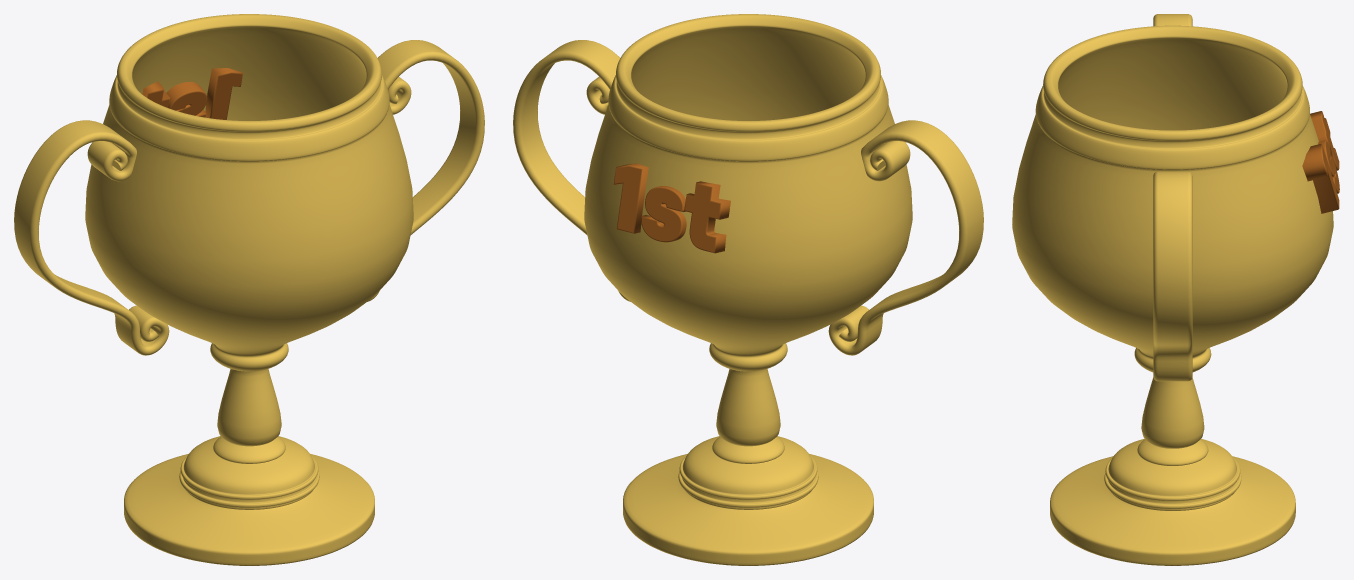
The model's file is kubok.fbx.
The picture shows the model from 3 angles, left to right: view 1: azimuth 30°, elevation 25°; view 2: azimuth 150°, elevation 25°; view 3: azimuth 270°, elevation 25°; orthographic projection. The views are drawn at different scales.
Parts seen in each view (by area): view 1: Cup_body; view 2: Cup_body; view 3: Cup_body.
Part boxes in pixels (bbox=[...]): Cup_body: bbox=[14, 14, 484, 565]; Cup_body: bbox=[513, 14, 983, 565]; Cup_body: bbox=[1012, 14, 1339, 565].
Size of the model in its own units: 26.32 by 24.72 by 16.8.
